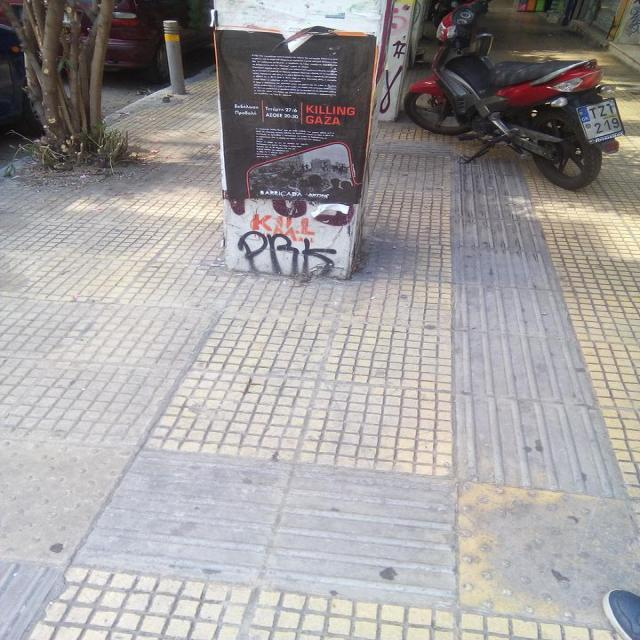nonspitting: (237, 230, 337, 278), (253, 212, 316, 244), (380, 66, 402, 115), (392, 41, 405, 58)
